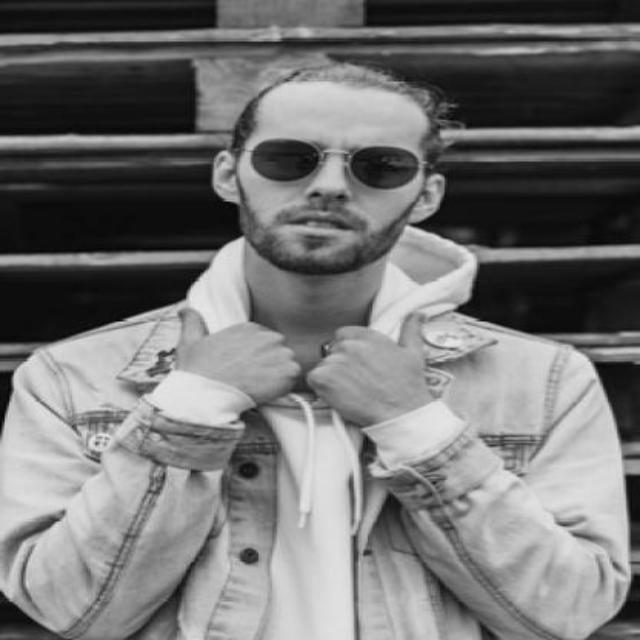2_gafas: (238, 136, 428, 188)
